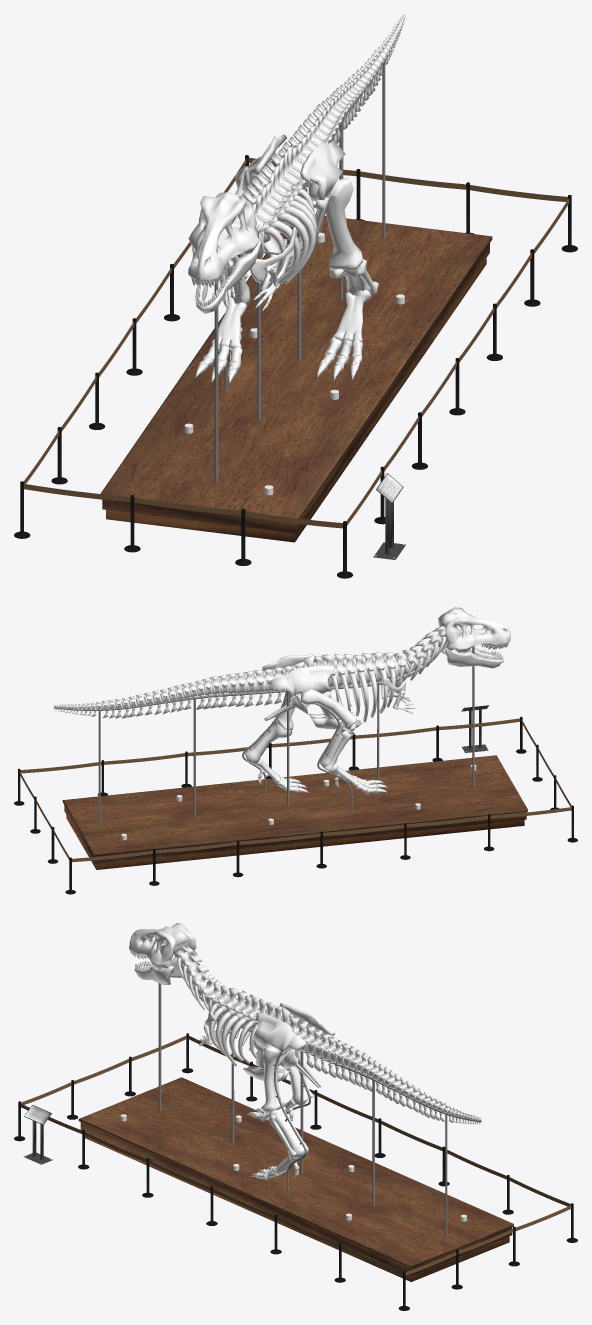
Rendered from tyrannosaurus_rex_fossil_museum.glb.
3 views of the same model, one above another, from view 1: azimuth 30°, elevation 25°; view 2: azimuth 150°, elevation 25°; view 3: azimuth 270°, elevation 25° (orthographic). The views are drawn at different scales.
Parts seen in each view (by area): view 1: RexBase.001_14, RexStanchion.001_5, RexSpine.001_6, RexHead.001_13, RexLeftLeg.001_12, RexPelvis.001_10, RexSupport.001_4, RexRibs.001_8, RexRightLeg.001_7, RexArms.001_15, RexPlaque.001_9, RexTailbones.001_3; view 2: RexBase.001_14, RexStanchion.001_5, RexSpine.001_6, RexSupport.001_4, RexHead.001_13, RexPelvis.001_10, RexRightLeg.001_7, RexRibs.001_8, RexLeftLeg.001_12, RexTailbones.001_3, RexArms.001_15, RexPlaque.001_9; view 3: RexBase.001_14, RexStanchion.001_5, RexSpine.001_6, RexSupport.001_4, RexPelvis.001_10, RexHead.001_13, RexLeftLeg.001_12, RexRibs.001_8, RexTailbones.001_3, RexRightLeg.001_7, RexPlaque.001_9.
Part boxes in pixels (<box>): RexBase.001_14: <box>100,216,492,542</box>; RexStanchion.001_5: <box>14,155,577,578</box>; RexSpine.001_6: <box>240,14,405,243</box>; RexHead.001_13: <box>188,191,261,313</box>; RexLeftLeg.001_12: <box>308,178,378,380</box>; RexPelvis.001_10: <box>241,134,345,292</box>; RexSupport.001_4: <box>214,19,404,481</box>; RexRibs.001_8: <box>229,182,317,284</box>; RexRightLeg.001_7: <box>195,166,271,383</box>; RexArms.001_15: <box>224,227,297,311</box>; RexPlaque.001_9: <box>373,473,405,559</box>; RexTailbones.001_3: <box>304,23,403,191</box>; RexBase.001_14: <box>62,755,527,869</box>; RexStanchion.001_5: <box>14,716,577,894</box>; RexSpine.001_6: <box>54,626,446,709</box>; RexSupport.001_4: <box>54,640,474,825</box>; RexHead.001_13: <box>436,607,510,668</box>; RexPelvis.001_10: <box>262,653,362,729</box>; RexRightLeg.001_7: <box>299,689,387,794</box>; RexRibs.001_8: <box>329,636,446,722</box>; RexLeftLeg.001_12: <box>245,692,308,792</box>; RexTailbones.001_3: <box>55,692,281,718</box>; RexArms.001_15: <box>372,661,415,713</box>; RexPlaque.001_9: <box>461,705,488,752</box>; RexBase.001_14: <box>78,1077,513,1281</box>; RexStanchion.001_5: <box>14,1033,577,1310</box>; RexSpine.001_6: <box>174,946,481,1120</box>; RexSupport.001_4: <box>158,964,481,1237</box>; RexPelvis.001_10: <box>243,1003,335,1088</box>; RexHead.001_13: <box>129,923,198,985</box>; RexLeftLeg.001_12: <box>250,1044,308,1180</box>; RexRibs.001_8: <box>177,954,282,1066</box>; RexTailbones.001_3: <box>306,1054,480,1124</box>; RexRightLeg.001_7: <box>247,1026,321,1121</box>; RexPlaque.001_9: <box>23,1105,52,1164</box>.
Bounding box in the file's own units: 5.33 × 2.13 × 5.24.
Materials: 14 (4 with a texture image).
